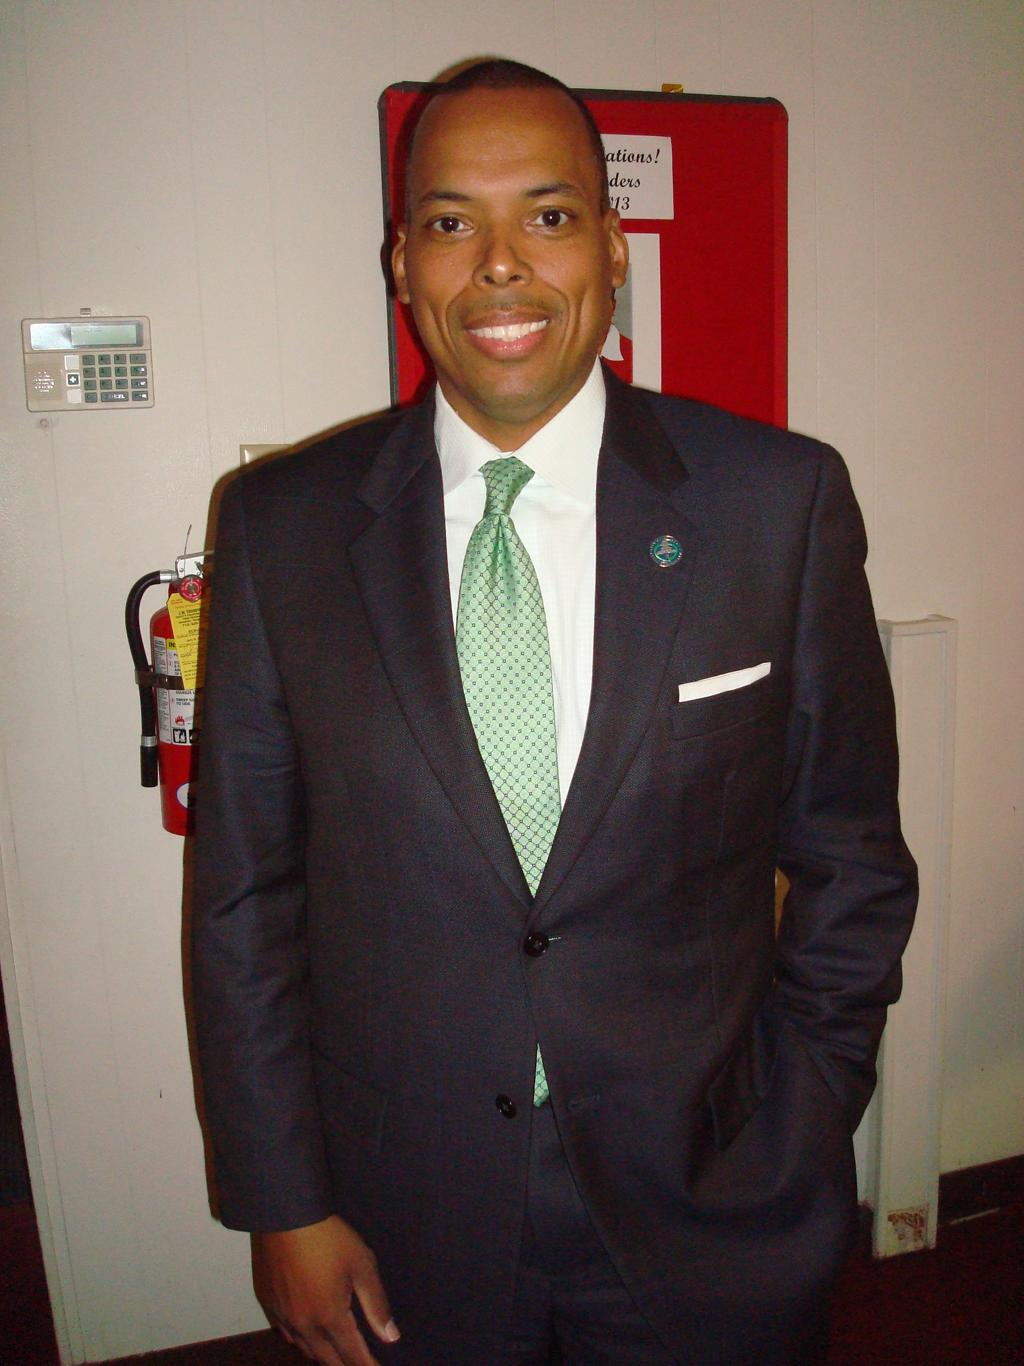face: (408, 88, 613, 416)
